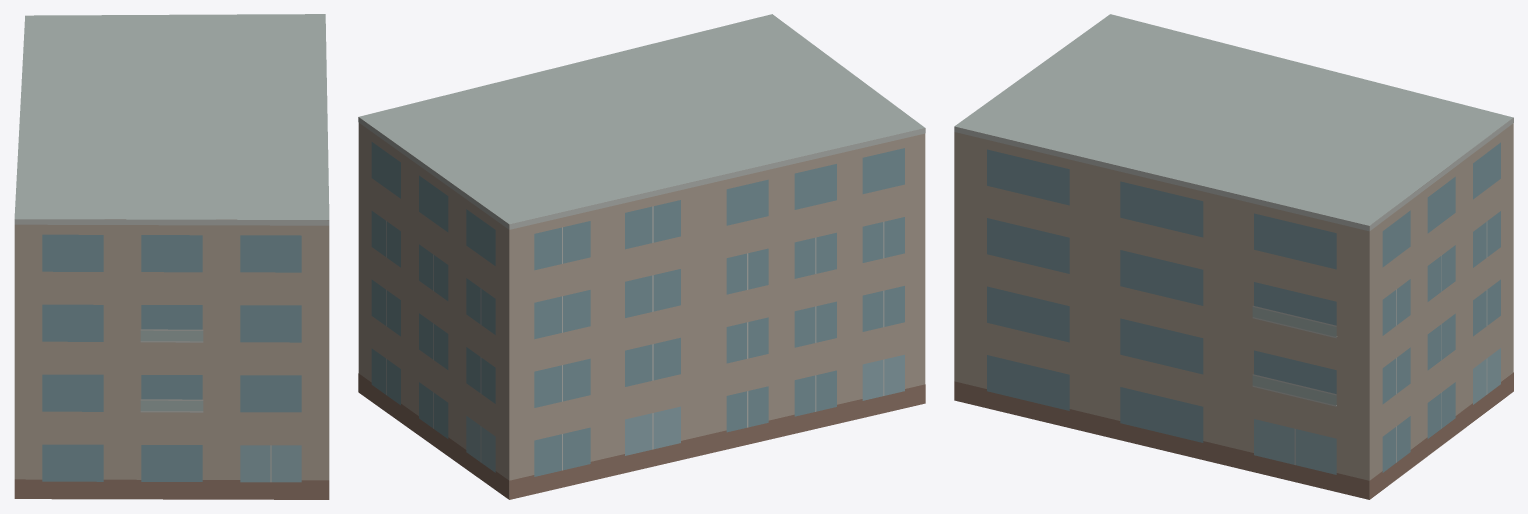
File: survey-upis-32680401.glb
The picture shows the model from 3 angles, left to right: view 1: azimuth 30°, elevation 25°; view 2: azimuth 150°, elevation 25°; view 3: azimuth 270°, elevation 25°; orthographic projection. The views are drawn at different scales.
Visible parts, largest first — view 1: survey-upis-32680401.tmp; view 2: survey-upis-32680401.tmp; view 3: survey-upis-32680401.tmp.
Part boxes in pixels (x1,y1,x2,y2): survey-upis-32680401.tmp: (14, 14, 329, 499); survey-upis-32680401.tmp: (358, 14, 925, 499); survey-upis-32680401.tmp: (954, 14, 1513, 499).
Bounding box in the file's own units: 20.25 × 12.2 × 22.59.
